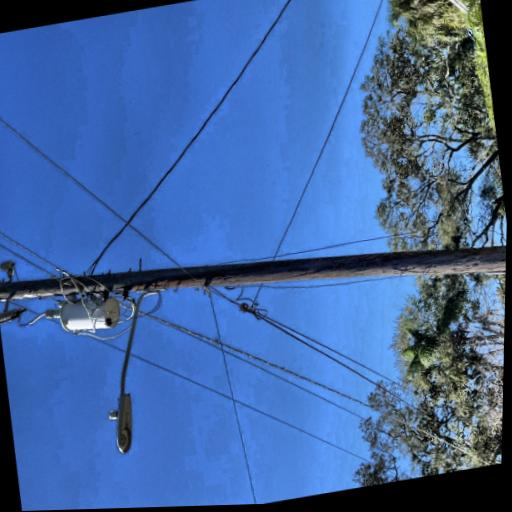pole: (0, 82, 177, 512)
street light: (0, 237, 109, 322)
transformer: (61, 190, 109, 266)
